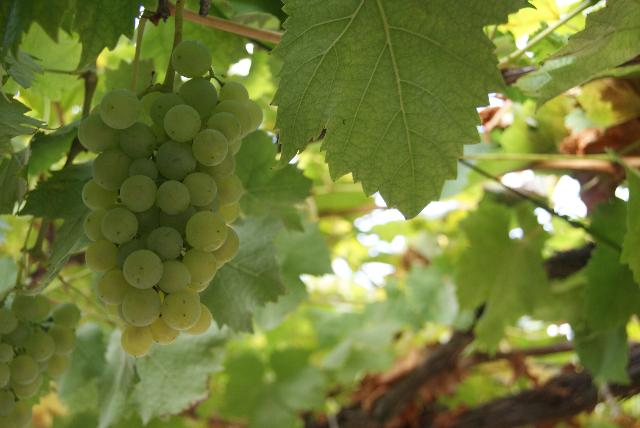grapes: (80, 40, 262, 358), (0, 295, 80, 428)
